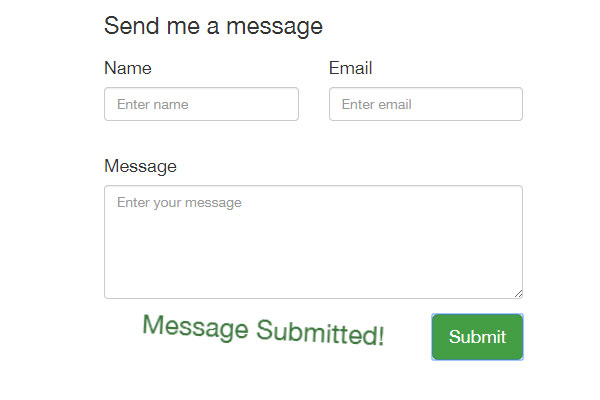_form_: (99, 1, 536, 399)
button: (431, 311, 526, 362)
field: (103, 183, 526, 301), (103, 85, 300, 122), (327, 86, 524, 122)
field_with_label: (100, 156, 530, 304), (324, 58, 528, 125), (101, 59, 303, 123)
